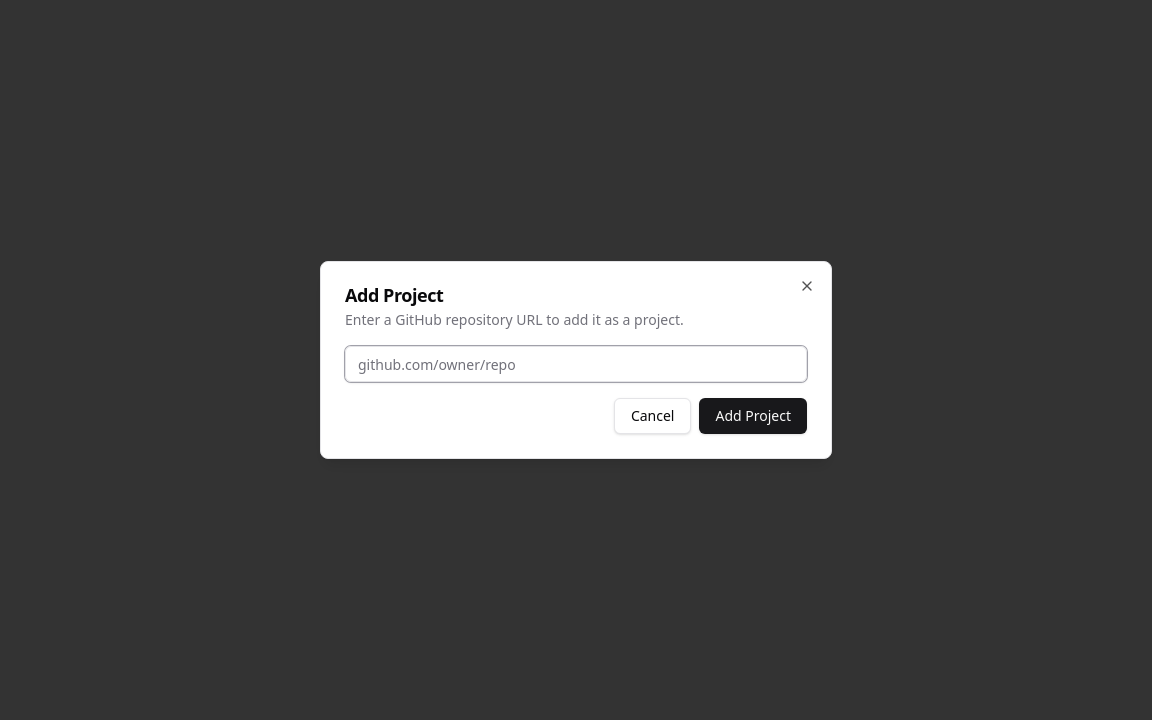
Test: AddProjectDialog › URL validation › shows error for empty URL on submit
Click the button "Add Project": click(753, 416) [700, 398, 807, 434]
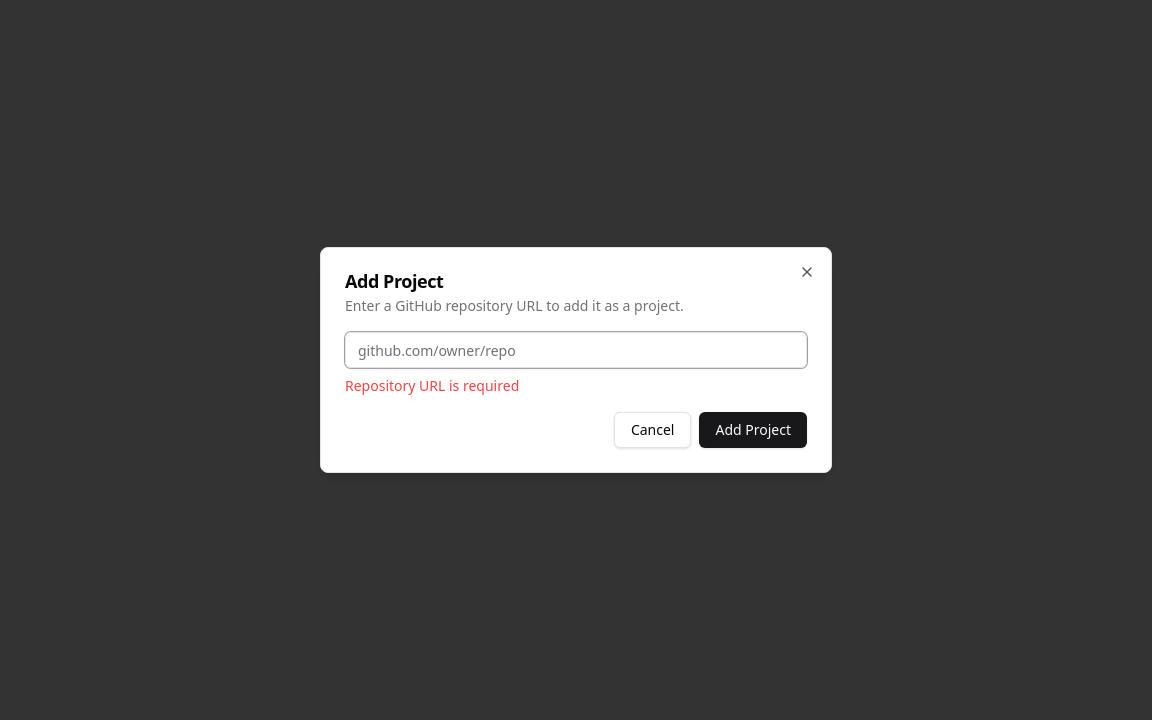
Check: the text "Repository URL is required" is shown, box [345, 376, 519, 395]
